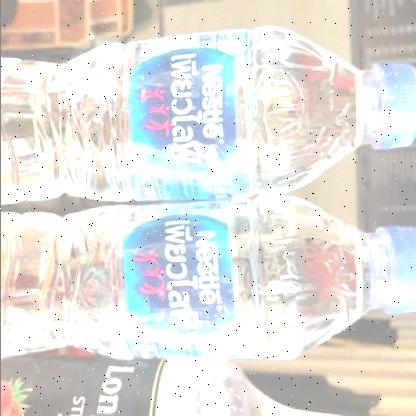Plastic Bottle: (0, 27, 416, 203), (0, 197, 416, 359)
